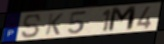1: (101, 9, 112, 33)
4: (135, 5, 153, 30)
5: (66, 10, 89, 35)
K: (45, 13, 65, 36)
M: (107, 5, 139, 34)
S: (21, 13, 43, 40)
